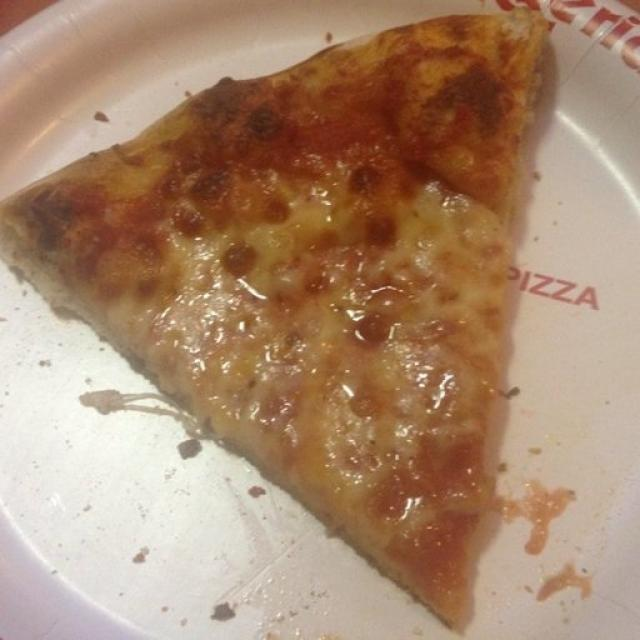Pizza: (0, 14, 549, 633)
